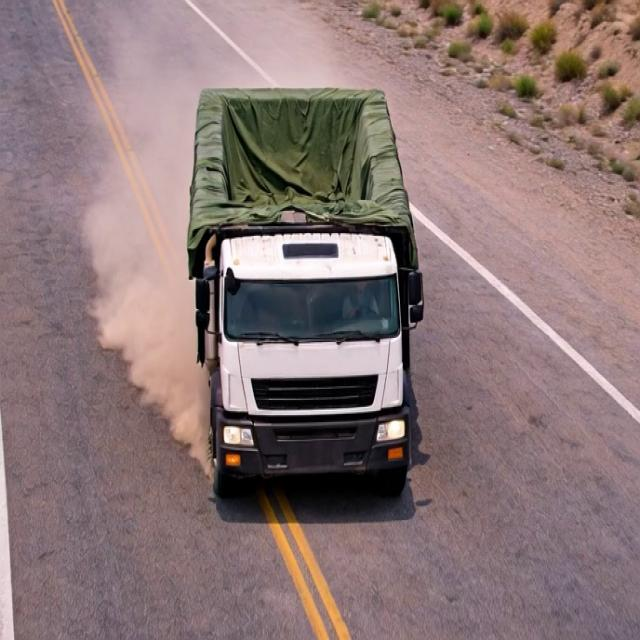Box: (190, 85, 413, 262)
Truck: (176, 60, 425, 509)
